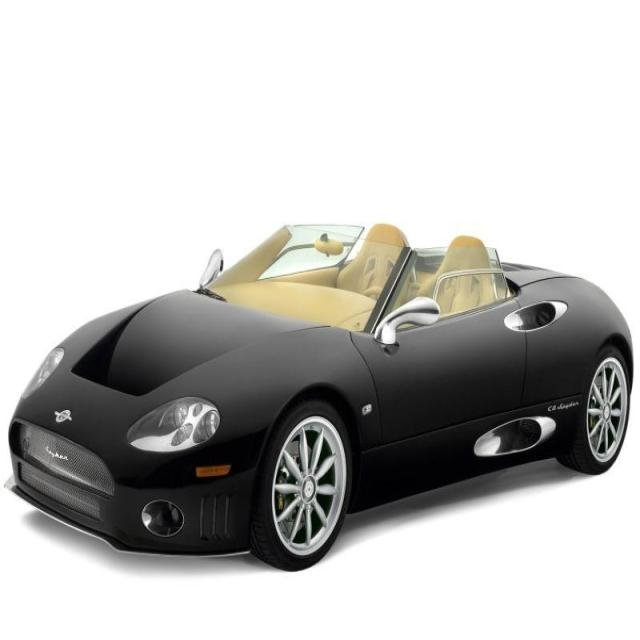Car: (8, 182, 640, 582)
